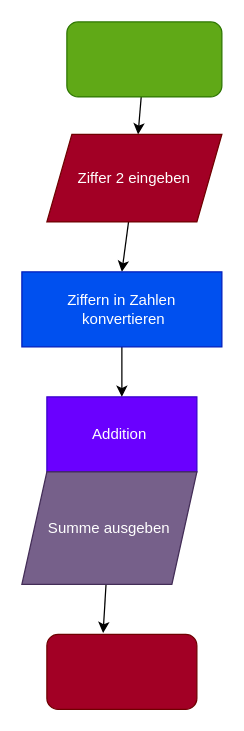
Some shapes in this 244 by 731 pixel diagram are drawn without their labels. The shapes that lost their labels are listed below. From the top down, each one's centre as x and y in pixels, then its label:
At [144,59]: "Start".
At [121,671]: "Stop".
